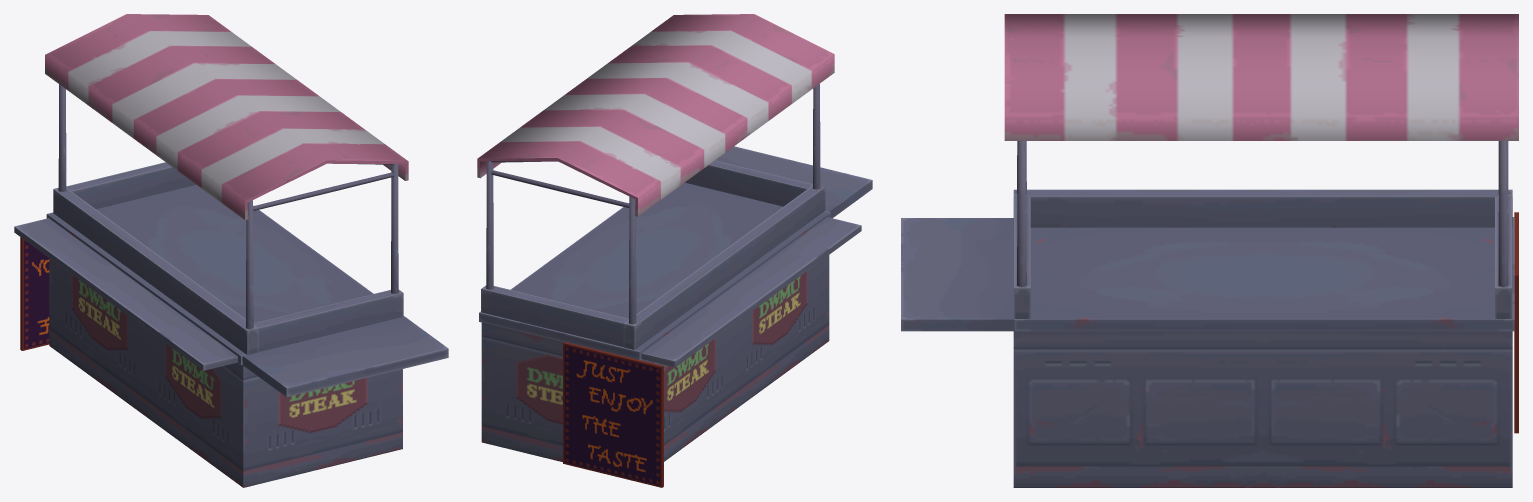
The model's file is Pixel_Misc_0015.fbx.
3 renders of one model, left to right at view 1: azimuth 30°, elevation 25°; view 2: azimuth 150°, elevation 25°; view 3: azimuth 270°, elevation 25°, orthographic. The views are drawn at different scales.
Parts seen in each view (by area): view 1: Pixel_Misc_0015; view 2: Pixel_Misc_0015; view 3: Pixel_Misc_0015.
Part boxes in pixels (<box>): Pixel_Misc_0015: <box>14,14,448,487</box>; Pixel_Misc_0015: <box>477,14,872,487</box>; Pixel_Misc_0015: <box>901,14,1518,487</box>.
Size of the model in its own units: 179 by 268 by 376.
